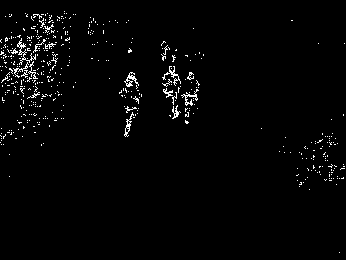person: (119, 71, 144, 137), (161, 67, 184, 119), (182, 69, 201, 122)
